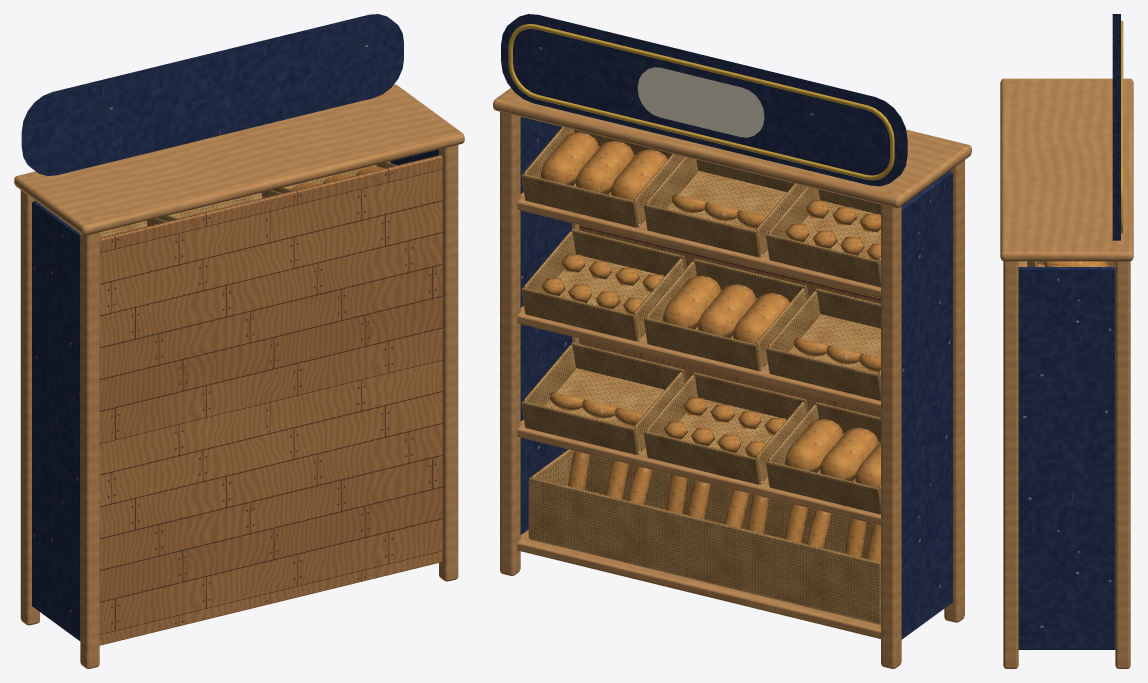
File: bakery_T2.fbx
3 views of the same model, side by side, from view 1: azimuth 30°, elevation 25°; view 2: azimuth 150°, elevation 25°; view 3: azimuth 270°, elevation 25° (orthographic). The views are drawn at different scales.
Visible parts, largest first — view 1: Body; view 2: Body, Anim Fill 0, Anim Fill 1, Anim Fill 3, Anim Fill 2; view 3: Body, Anim Fill 0.
Boxes of the visible parts, left/top/right/bottom form: Body: left=14, top=14, right=464, bottom=668; Body: left=493, top=14, right=971, bottom=668; Anim Fill 0: left=540, top=132, right=667, bottom=504; Anim Fill 1: left=662, top=194, right=789, bottom=528; Anim Fill 3: left=784, top=200, right=880, bottom=561; Anim Fill 2: left=747, top=494, right=831, bottom=548; Body: left=1000, top=14, right=1133, bottom=668; Anim Fill 0: left=1044, top=261, right=1108, bottom=266.
Size of the model in its own units: 1.5 by 1.97 by 0.48.
